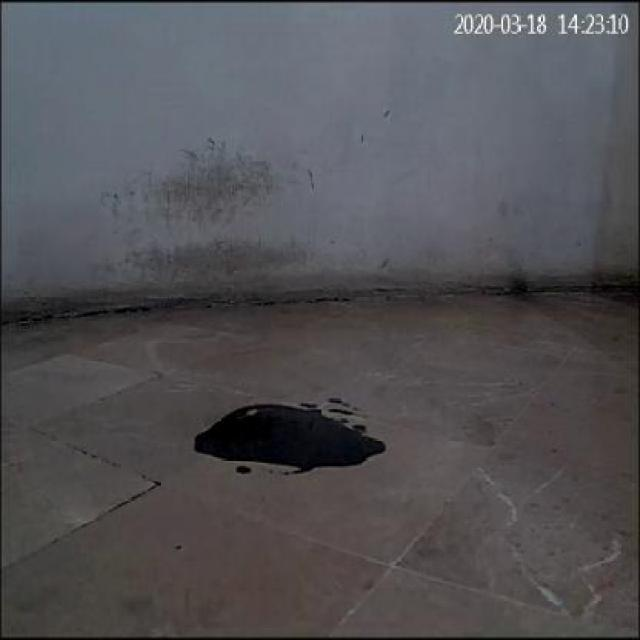spill: (192, 398, 383, 474)
